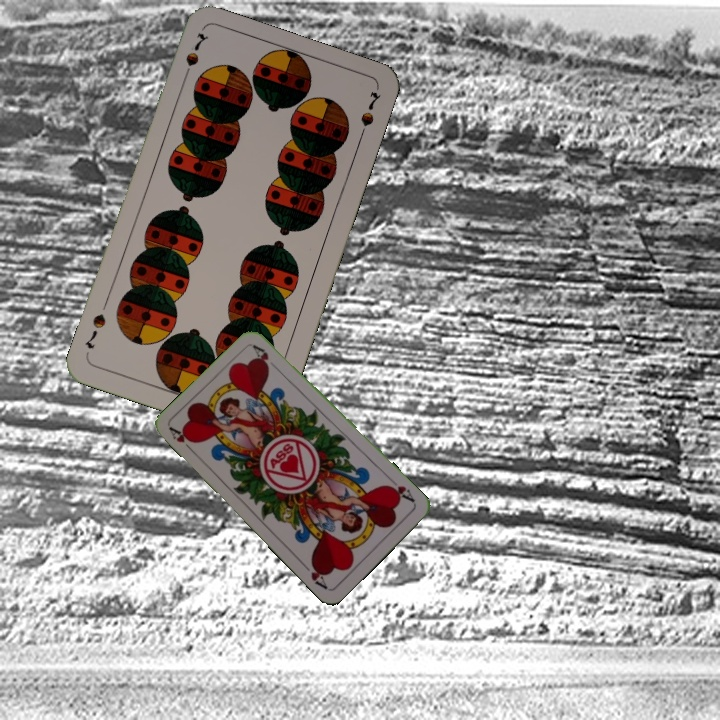HA: (166, 423, 198, 457), (383, 474, 418, 505)
S7: (178, 29, 211, 85)
